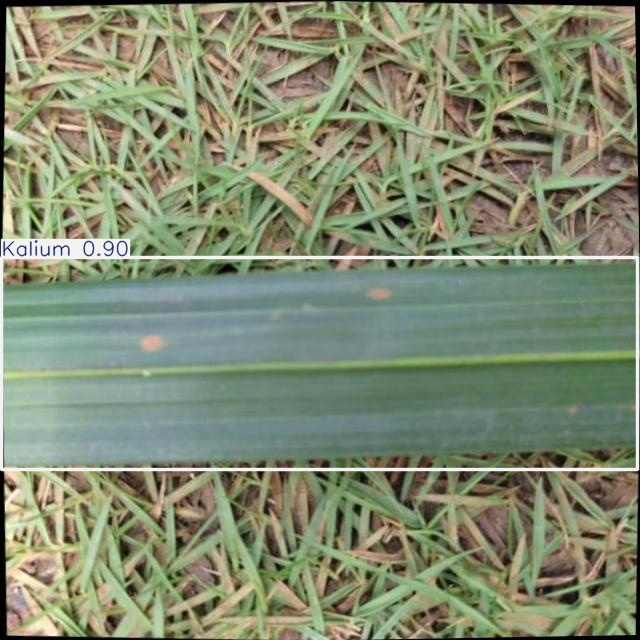Kalium: (2, 257, 637, 469)
